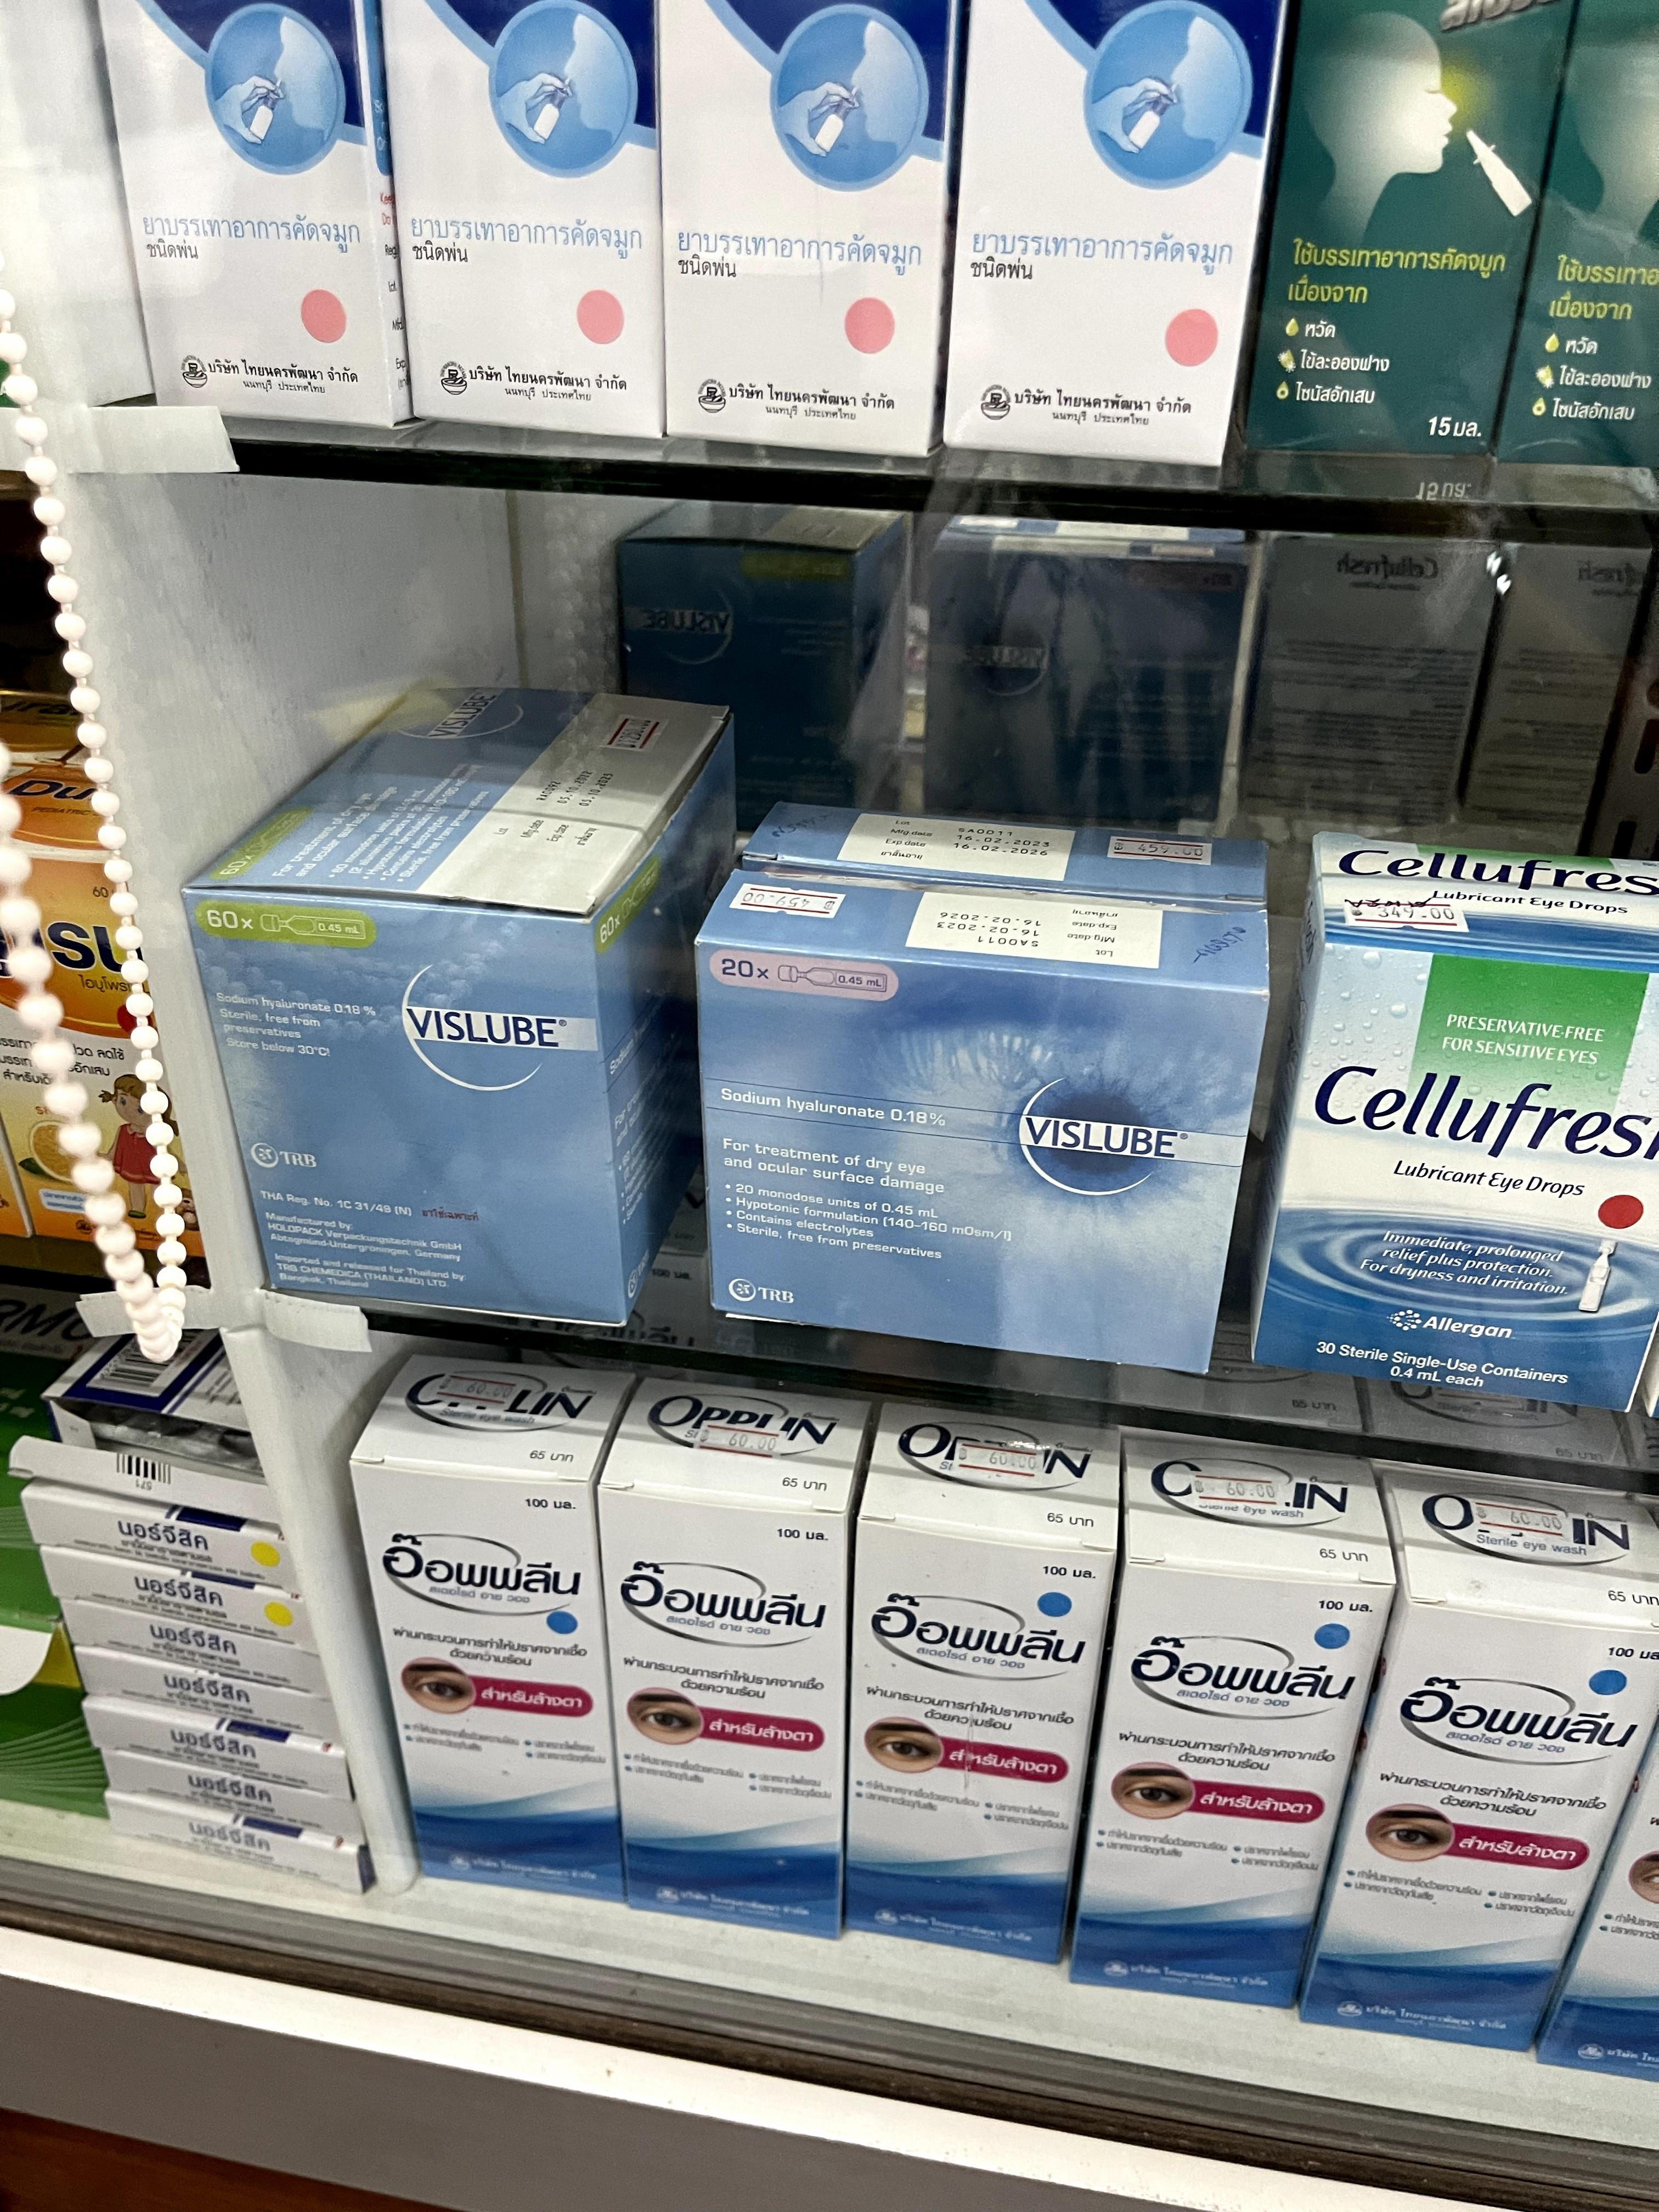Opplin: (1309, 1460, 1659, 2064), (1068, 1421, 1378, 2012), (354, 1353, 636, 1892), (852, 1402, 1117, 1959), (608, 1378, 868, 1942)
Vislube20: (718, 881, 1272, 1378), (746, 798, 1272, 907)
Vislube60: (190, 691, 744, 1325)
